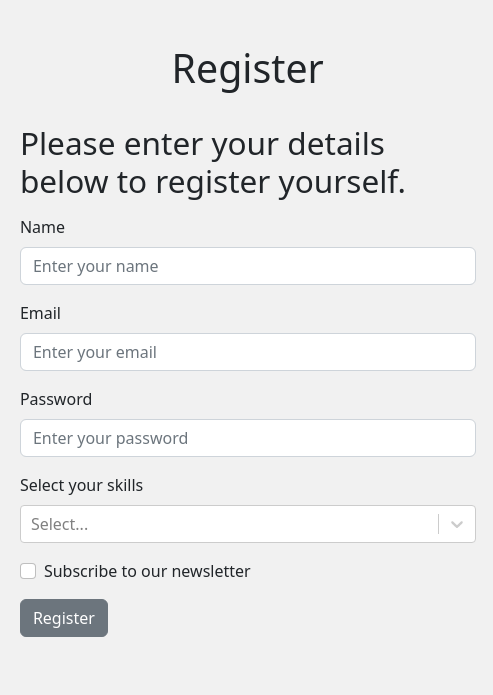
Test case: should show error message when all the fields are not entered
Click the button "Register". click: {"x": 64, "y": 618}
box: [20,599,108,637]
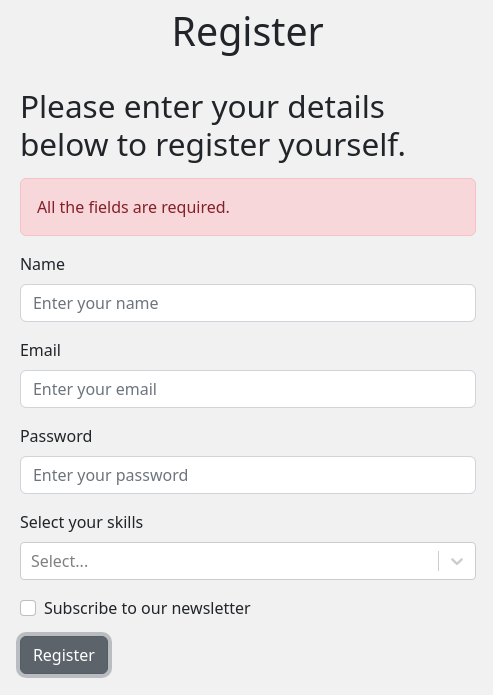
Check: the message "All the fields are required." is shown, box [20,178,476,236]
